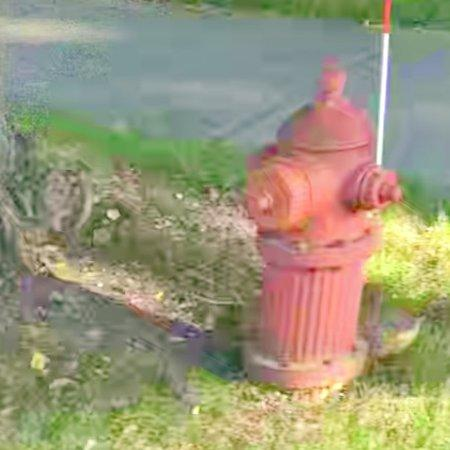a fire hydrant: (248, 57, 403, 389)
